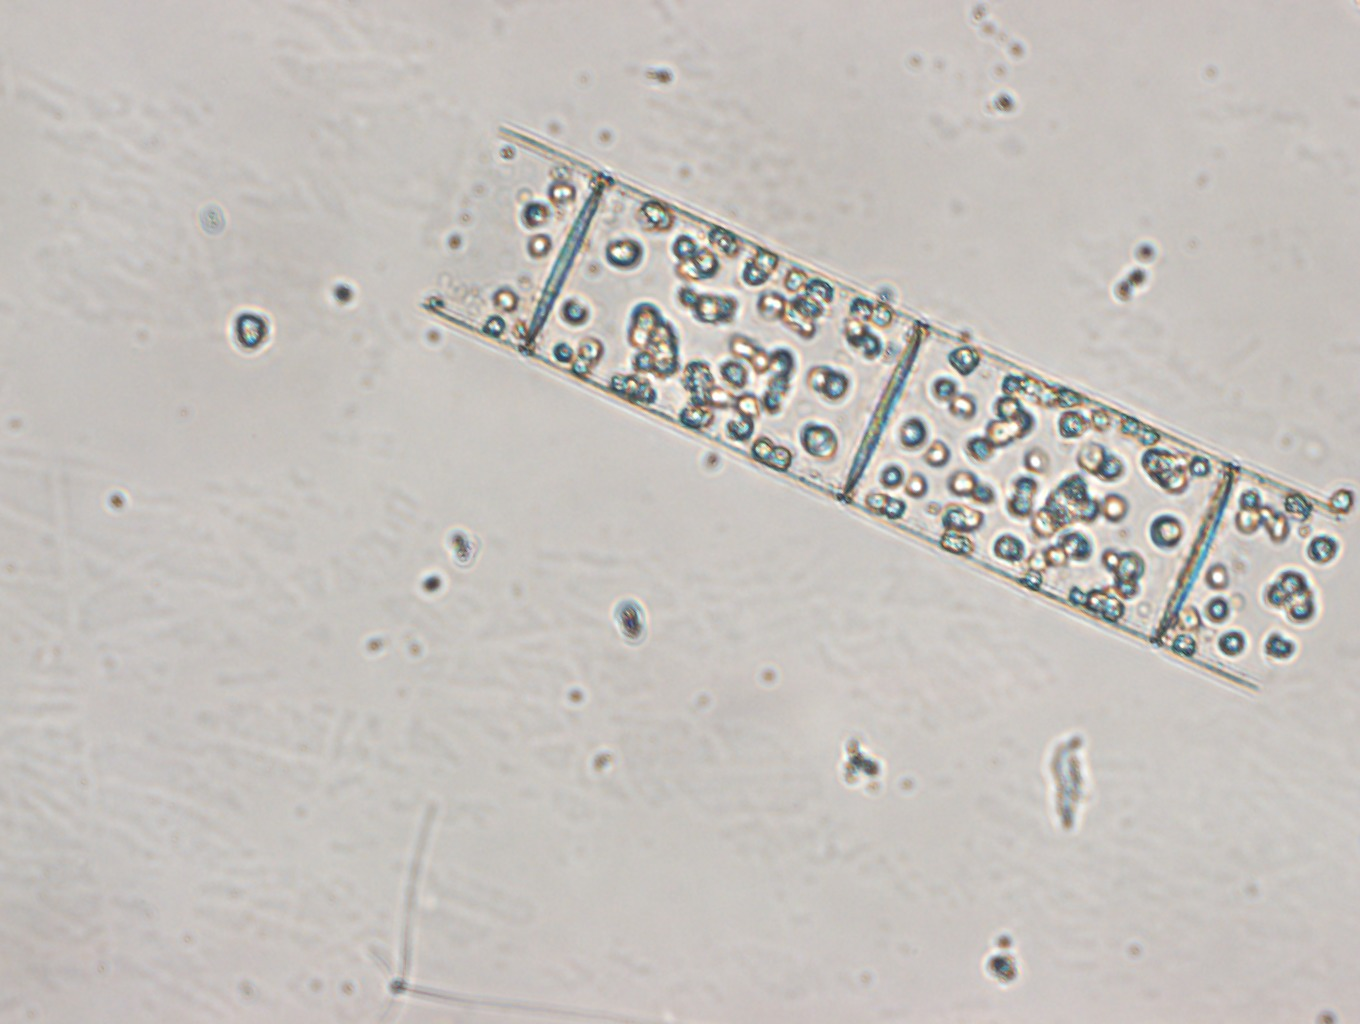guinardia flaccida: (416, 123, 1347, 689)
